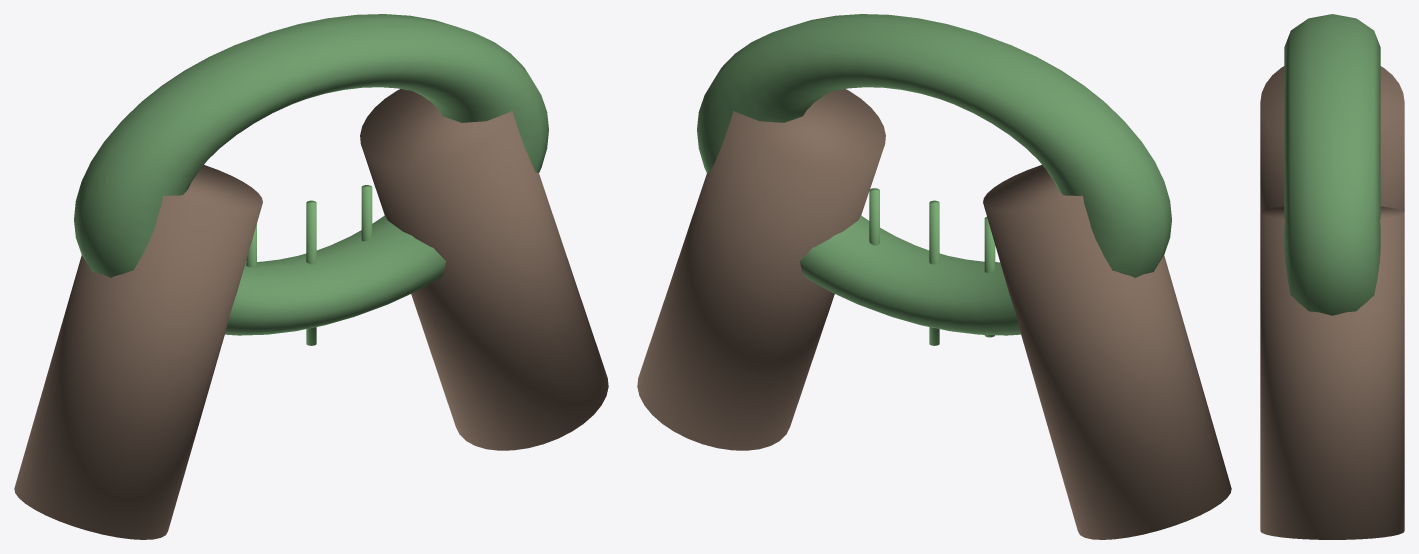
The model's file is nature_monumental_roots_arch.glb.
3 views of the same model, side by side, from view 1: azimuth 30°, elevation 25°; view 2: azimuth 150°, elevation 25°; view 3: azimuth 270°, elevation 25° (orthographic). The views are drawn at different scales.
Parts seen in each view (by area): view 1: Root_Arch_Apex, Root_Right_Pillar, Root_Left_Pillar, Hanging_Vine_3; view 2: Root_Arch_Apex, Root_Right_Pillar, Root_Left_Pillar, Hanging_Vine_3; view 3: Root_Right_Pillar, Root_Arch_Apex, Root_Left_Pillar.
Boxes of the visible parts, bbox=[...] form: Root_Arch_Apex: bbox=[74, 14, 548, 335]; Root_Right_Pillar: bbox=[360, 89, 608, 450]; Root_Left_Pillar: bbox=[14, 165, 262, 539]; Hanging_Vine_3: bbox=[306, 200, 316, 345]; Root_Arch_Apex: bbox=[697, 14, 1171, 335]; Root_Right_Pillar: bbox=[637, 89, 885, 450]; Root_Left_Pillar: bbox=[983, 165, 1231, 539]; Hanging_Vine_3: bbox=[929, 200, 939, 345]; Root_Right_Pillar: bbox=[1260, 206, 1404, 539]; Root_Arch_Apex: bbox=[1284, 14, 1380, 315]; Root_Left_Pillar: bbox=[1260, 66, 1404, 212].
Bounding box in the file's own units: 14.9 × 11.16 × 3.6.
